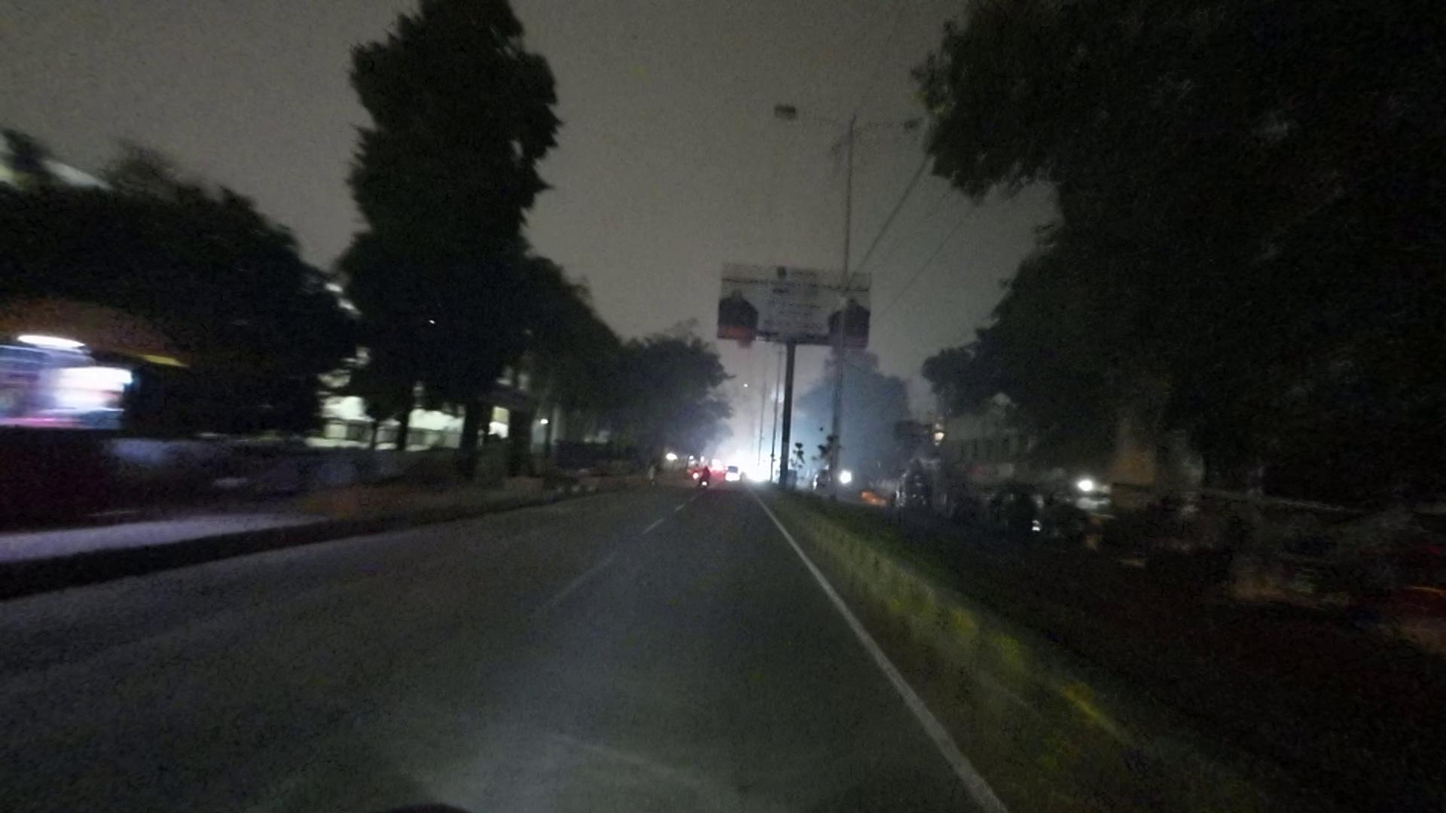streetlight: (773, 102, 847, 131), (855, 117, 929, 134)
